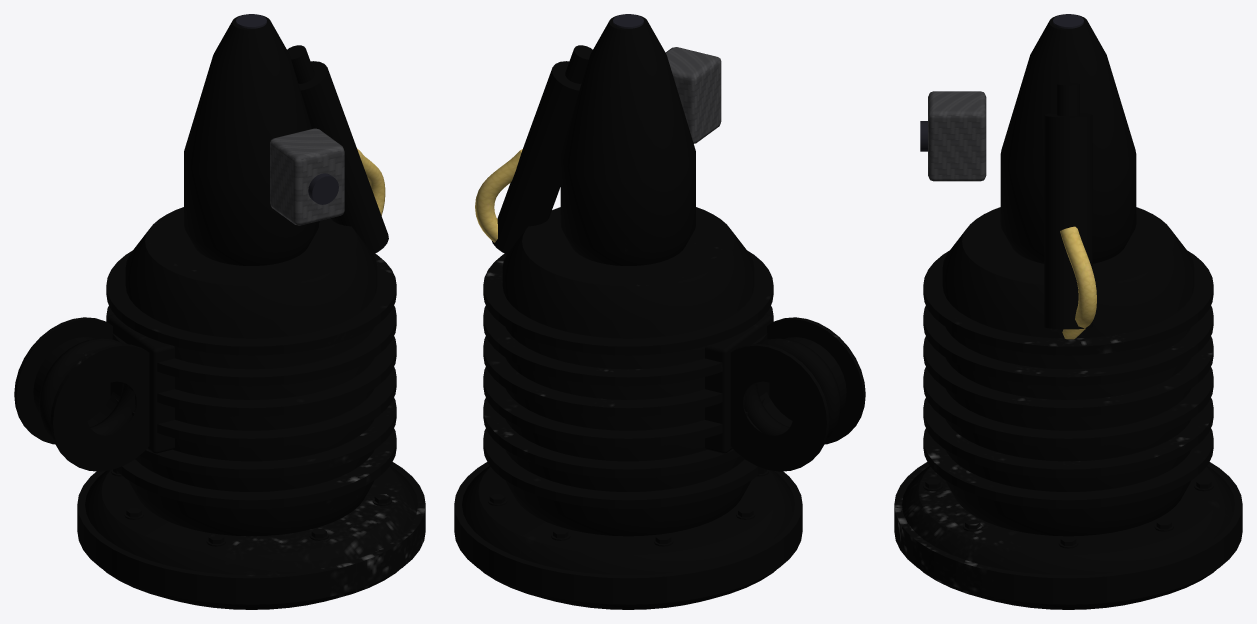
3 views of the same model, side by side, from view 1: azimuth 30°, elevation 25°; view 2: azimuth 150°, elevation 25°; view 3: azimuth 270°, elevation 25° (orthographic).
Visible parts, largest first — view 1: TL02_Static_Titanium, TL02_Static_AnodizedBlack, TL02_Static_CarbonFiber, TL02_Static_Copper, TL02_Static_LensOptic, TL02_Static_KevlarWire; view 2: TL02_Static_Titanium, TL02_Static_AnodizedBlack, TL02_Static_CarbonFiber, TL02_Static_Copper, TL02_Static_KevlarWire; view 3: TL02_Static_Titanium, TL02_Static_AnodizedBlack, TL02_Static_CarbonFiber, TL02_Static_KevlarWire, TL02_Static_Copper, TL02_Static_LensOptic.
Boxes of the visible parts, box(x1,y1,x2,y2) form: TL02_Static_Titanium: box(77, 15, 425, 609); TL02_Static_AnodizedBlack: box(14, 61, 388, 536); TL02_Static_CarbonFiber: box(270, 128, 344, 225); TL02_Static_Copper: box(39, 45, 314, 439); TL02_Static_LensOptic: box(236, 14, 338, 204); TL02_Static_KevlarWire: box(357, 148, 385, 215); TL02_Static_Titanium: box(454, 15, 802, 609); TL02_Static_AnodizedBlack: box(492, 61, 865, 536); TL02_Static_CarbonFiber: box(665, 47, 721, 143); TL02_Static_Copper: box(565, 45, 840, 439); TL02_Static_KevlarWire: box(475, 149, 522, 242); TL02_Static_Titanium: box(894, 15, 1242, 609); TL02_Static_AnodizedBlack: box(942, 113, 1194, 536); TL02_Static_CarbonFiber: box(928, 91, 986, 181); TL02_Static_KevlarWire: box(1060, 226, 1096, 339); TL02_Static_Copper: box(1057, 83, 1079, 116); TL02_Static_LensOptic: box(920, 14, 1083, 151).
Bounding box in the file's own units: 0.44 × 0.602 × 0.36.
Materials: 6 (5 with a texture image).
